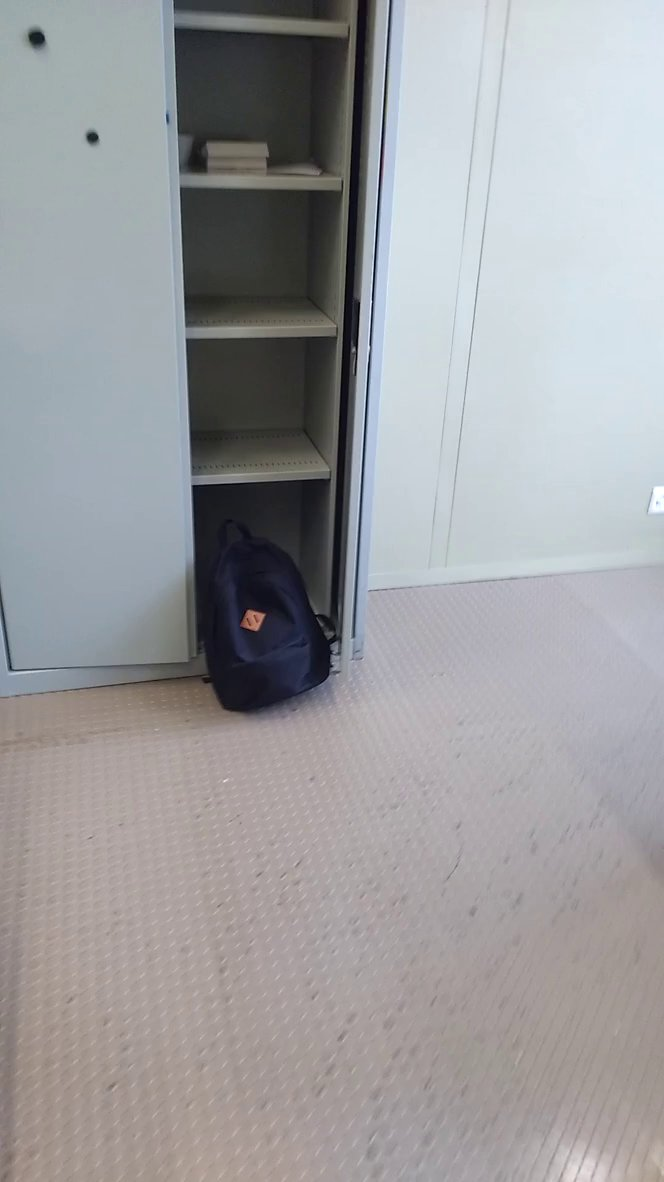bag: (196, 508, 346, 722)
